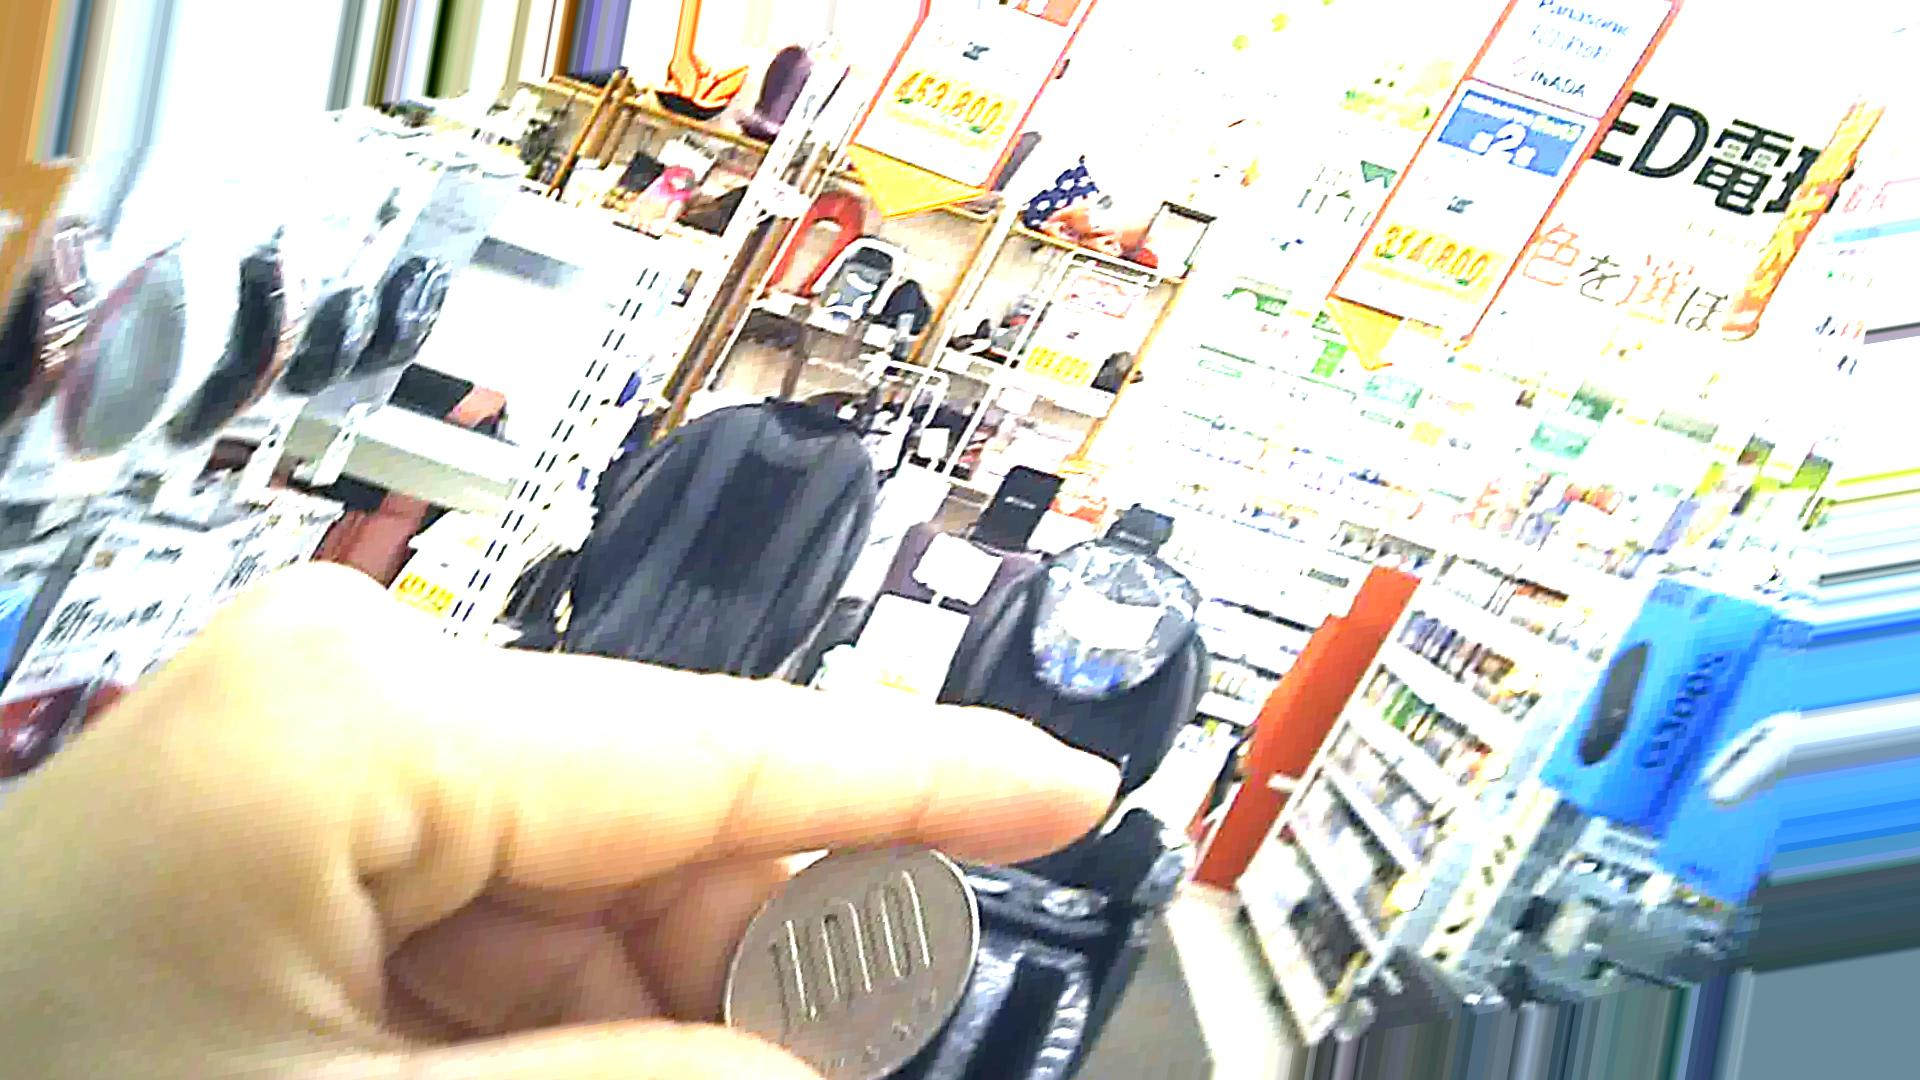100 Yen: (719, 822, 986, 1079)
